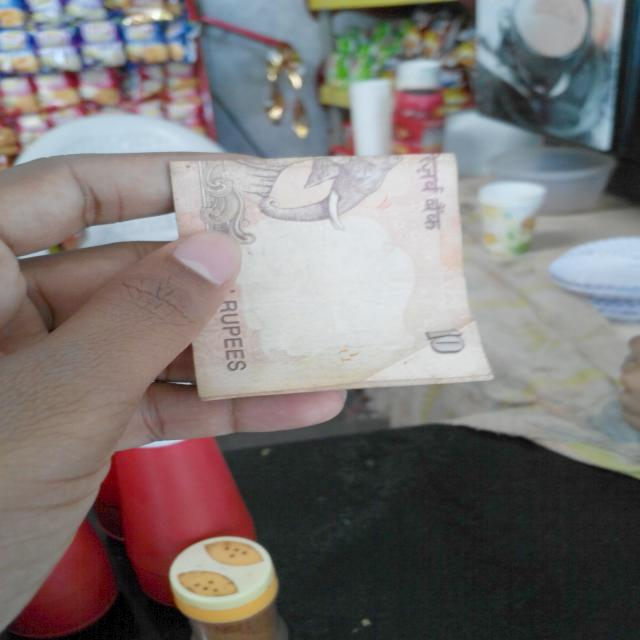10rs: (163, 157, 492, 387)
